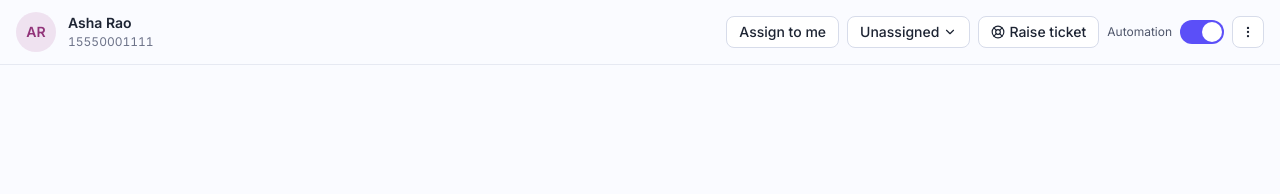
Test: claiming and releasing › **lists only people who can still be assigned work**
The width and height of the screenshot is (1280, 194).
Click the button "Unassigned" at (909, 32), box [847,16,970,48]
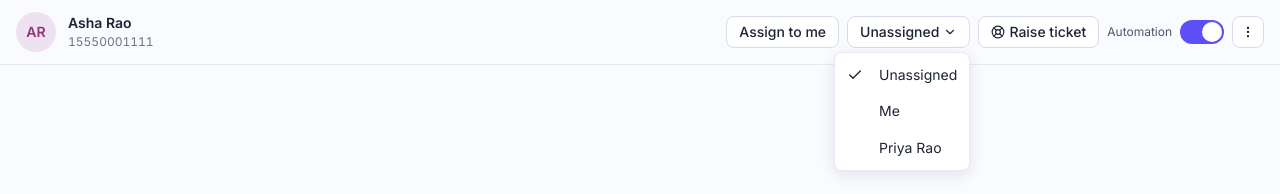
Result: the menu item "Priya Rao" is shown at [879,139,942,156]
